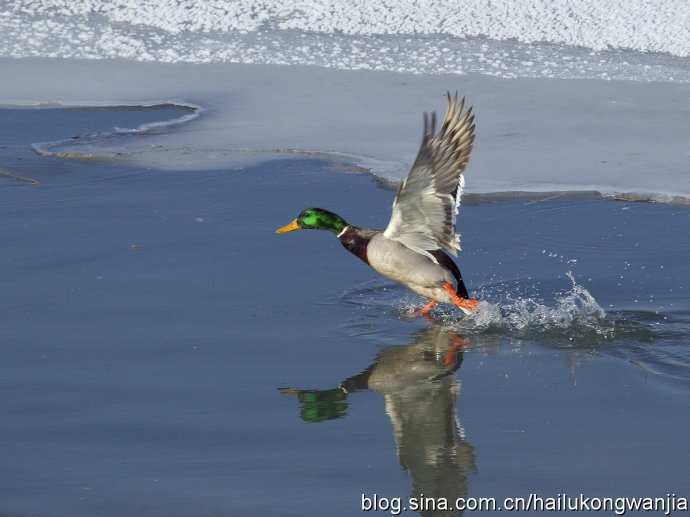bird: (273, 89, 487, 318)
